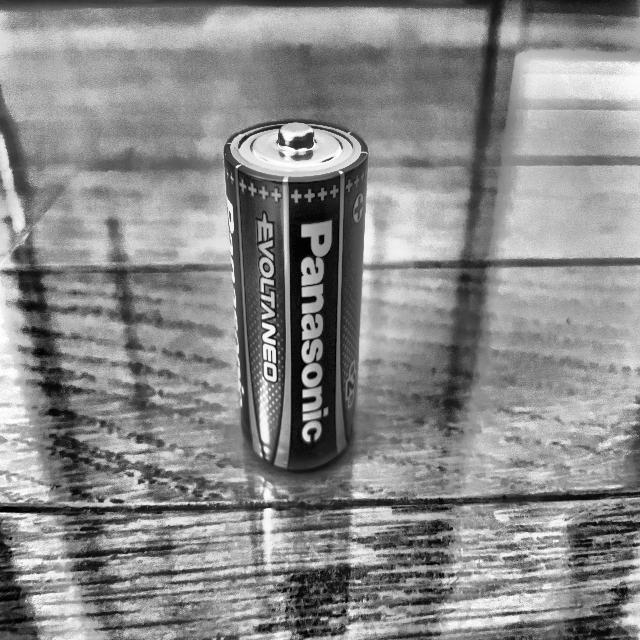drycell: (224, 120, 368, 470)
